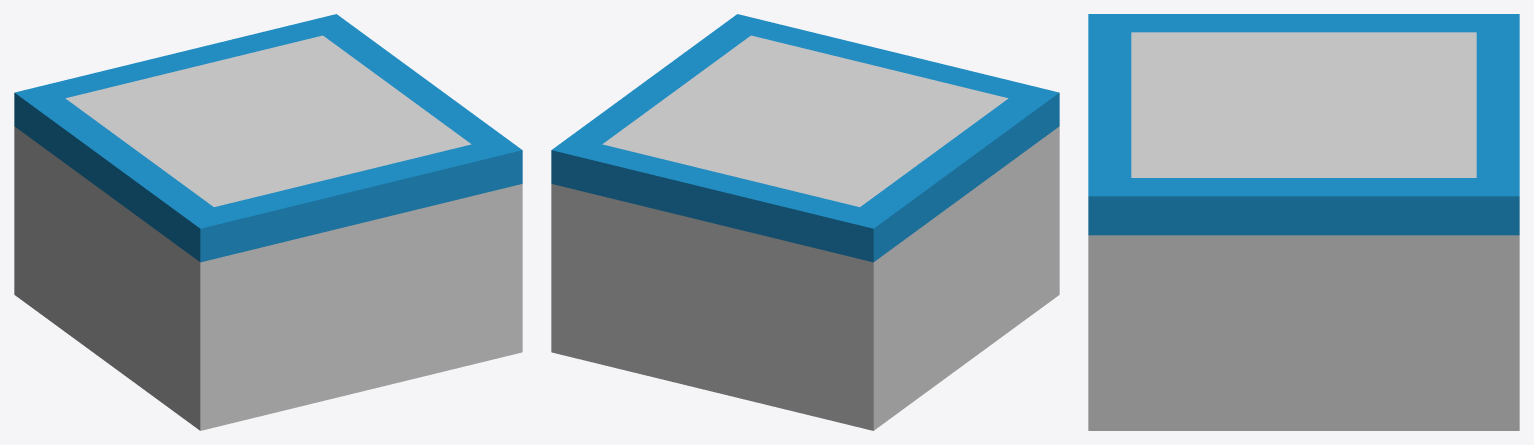
3 views of the same model, side by side, from view 1: azimuth 30°, elevation 25°; view 2: azimuth 150°, elevation 25°; view 3: azimuth 270°, elevation 25° (orthographic). The views are drawn at different scales.
Visible parts, largest first — view 1: Matrix_14; view 2: Matrix_14; view 3: Matrix_14.
Part boxes in pixels (<box>): Matrix_14: <box>14,14,522,430</box>; Matrix_14: <box>551,14,1059,430</box>; Matrix_14: <box>1088,14,1519,430</box>.
Bounding box in the file's own units: 10 × 6 × 10.
